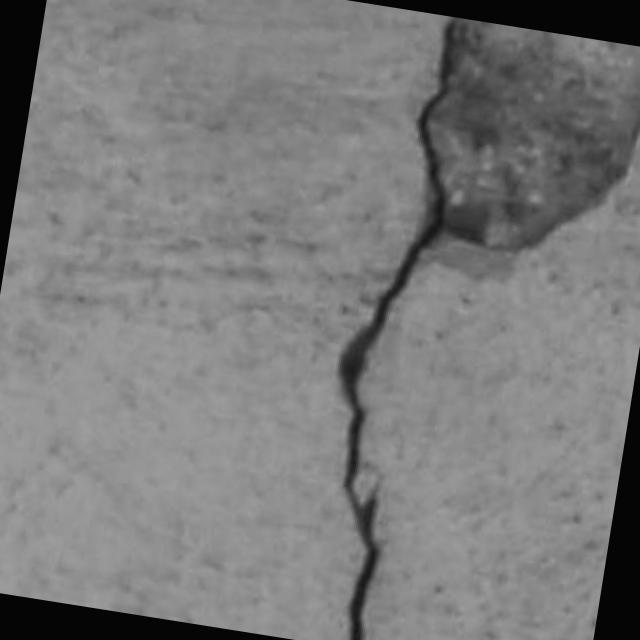crack: (339, 26, 450, 639), (426, 17, 640, 251)
